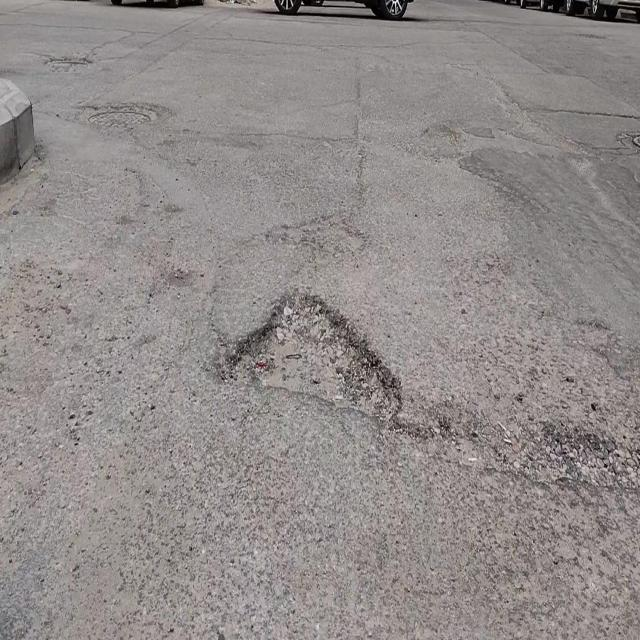Pothole: (225, 288, 403, 433)
